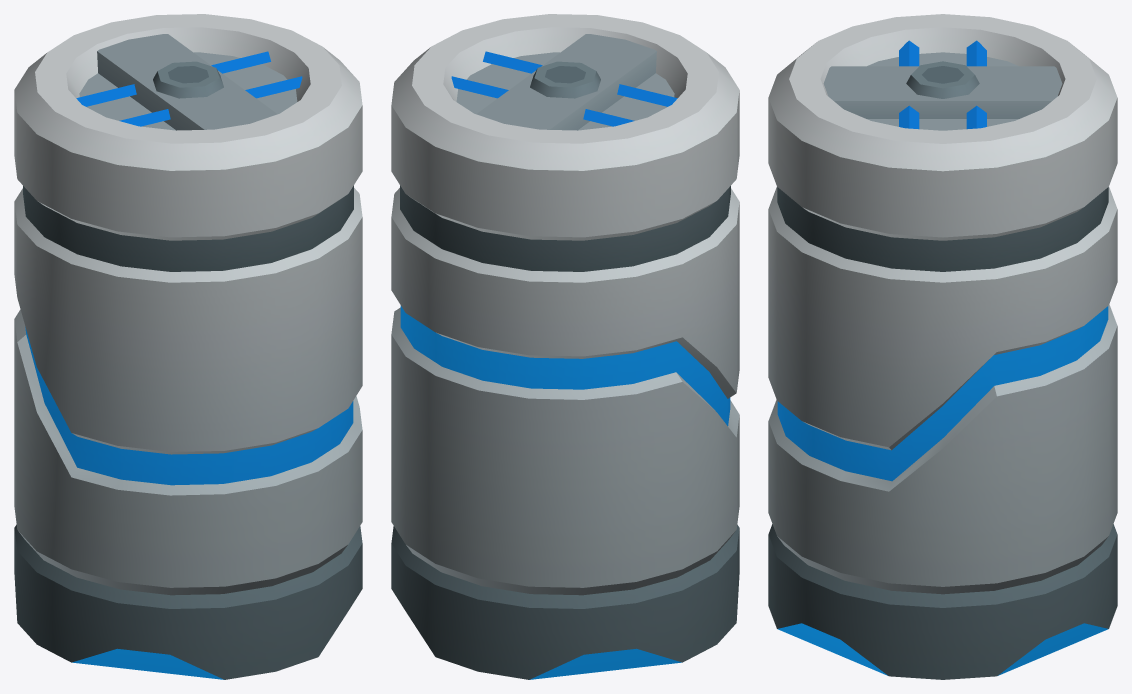
The model's file is Barrel_001.glb.
3 renders of one model, left to right at view 1: azimuth 30°, elevation 25°; view 2: azimuth 150°, elevation 25°; view 3: azimuth 270°, elevation 25°, orthographic.
Parts seen in each view (by area): view 1: Barrel_001; view 2: Barrel_001; view 3: Barrel_001.
Part boxes in pixels (bbox=[...]): Barrel_001: bbox=[14, 14, 362, 679]; Barrel_001: bbox=[391, 14, 739, 679]; Barrel_001: bbox=[768, 14, 1117, 679].
Size of the model in its own units: 0.6 by 1.01 by 0.6.
Materials: 2 (2 with a texture image).
